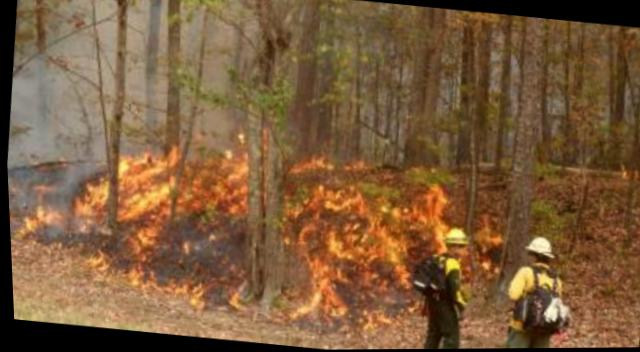fire: (21, 100, 483, 334)
